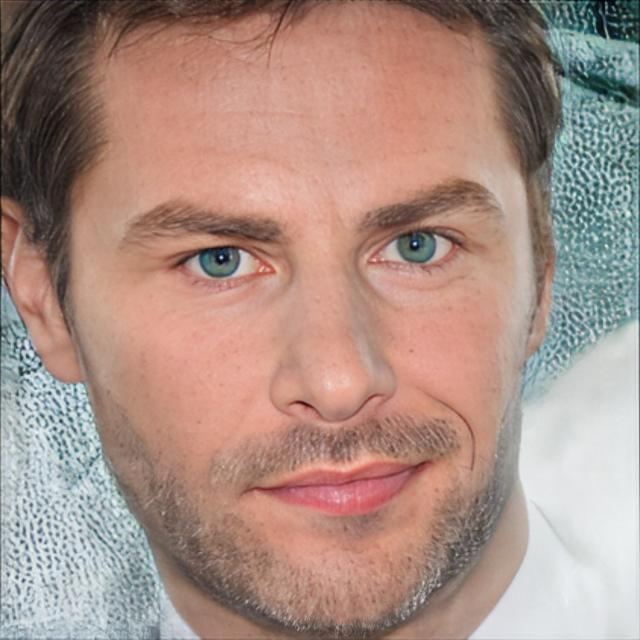content: (73, 0, 541, 640)
